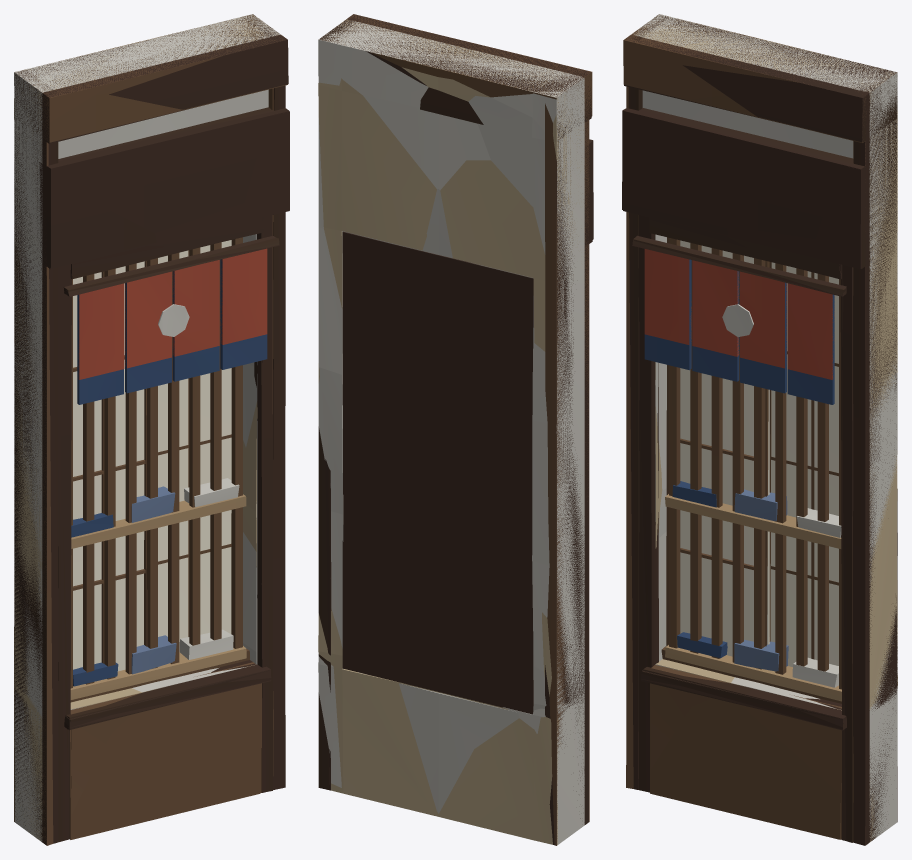
The model's file is wall.shopfront.glb.
The picture shows the model from 3 angles, left to right: view 1: azimuth 30°, elevation 25°; view 2: azimuth 150°, elevation 25°; view 3: azimuth 330°, elevation 25°; orthographic projection.
Visible parts, largest first — view 1: wall.shopfront.v0.mesh, wall.shopfront.v2.mesh, wall.shopfront.v1.mesh; view 2: wall.shopfront.v2.mesh, wall.shopfront.v1.mesh, wall.shopfront.v0.mesh; view 3: wall.shopfront.v0.mesh, wall.shopfront.v2.mesh, wall.shopfront.v1.mesh.
Part boxes in pixels (box(x1,y1,x2,y2)): wall.shopfront.v0.mesh: box(14, 14, 287, 843); wall.shopfront.v2.mesh: box(14, 15, 289, 845); wall.shopfront.v1.mesh: box(14, 14, 289, 845); wall.shopfront.v2.mesh: box(322, 16, 593, 845); wall.shopfront.v1.mesh: box(318, 14, 592, 845); wall.shopfront.v0.mesh: box(318, 14, 593, 844); wall.shopfront.v0.mesh: box(622, 14, 897, 845); wall.shopfront.v2.mesh: box(622, 16, 897, 842); wall.shopfront.v1.mesh: box(623, 15, 897, 842).
Bounding box in the file's own units: 0.9999 × 3 × 0.299.
